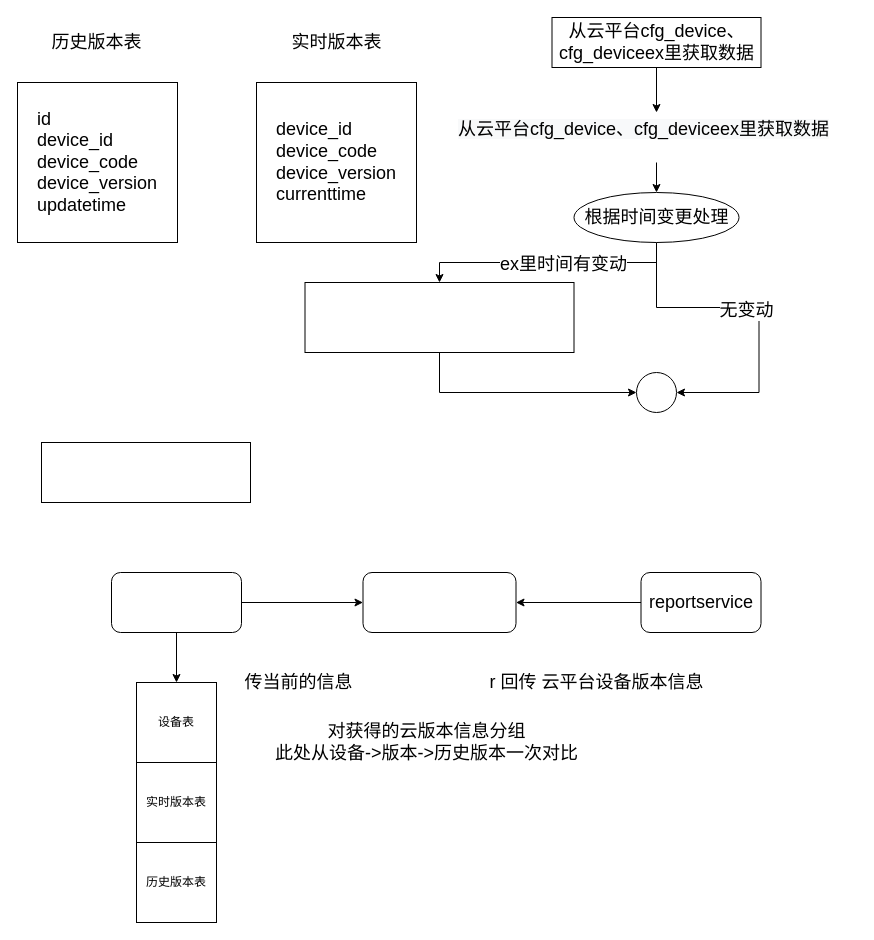
Image size: 874x940. Some labels were removed from this diagram. The centre of each missing label's shape, as x and y in pixels:
"chargeplatformout" belongs at [439,602].
"devicemanage" belongs at [176,602].
"历史表里插入一条； 实时表当前版本更替； 设备管理表 对应设备版本也更替" belongs at [439,317].
"经讨论，本周一开始决定开发使用此方案" belongs at [145,472].
